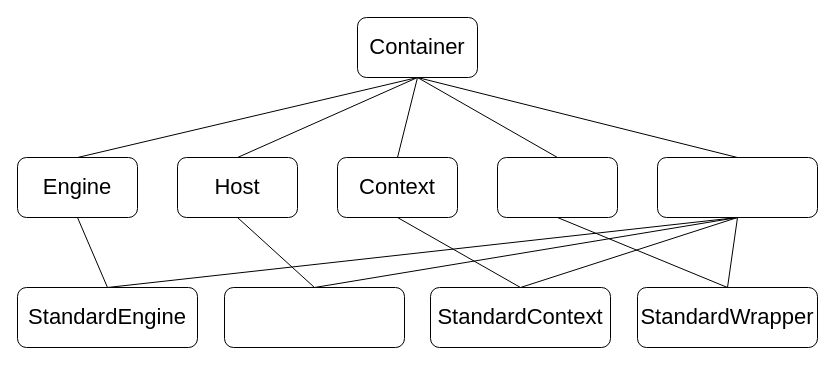
Image size: 835x365. Some labels were removed from this diagram. Each missing label, with the centre of its shape:
ContainerBase: the point at 737,187
StandardHost: the point at 314,317
Wrapper: the point at 557,187
